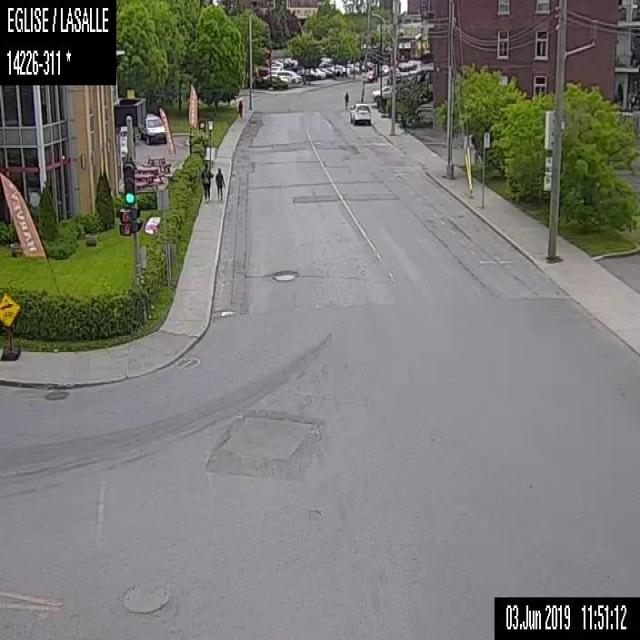pedestrian: (200, 160, 213, 203), (214, 165, 226, 202), (237, 97, 244, 119), (344, 91, 349, 108)
vehicle: (138, 112, 166, 146), (347, 100, 371, 125), (276, 67, 300, 83), (371, 84, 392, 100)
